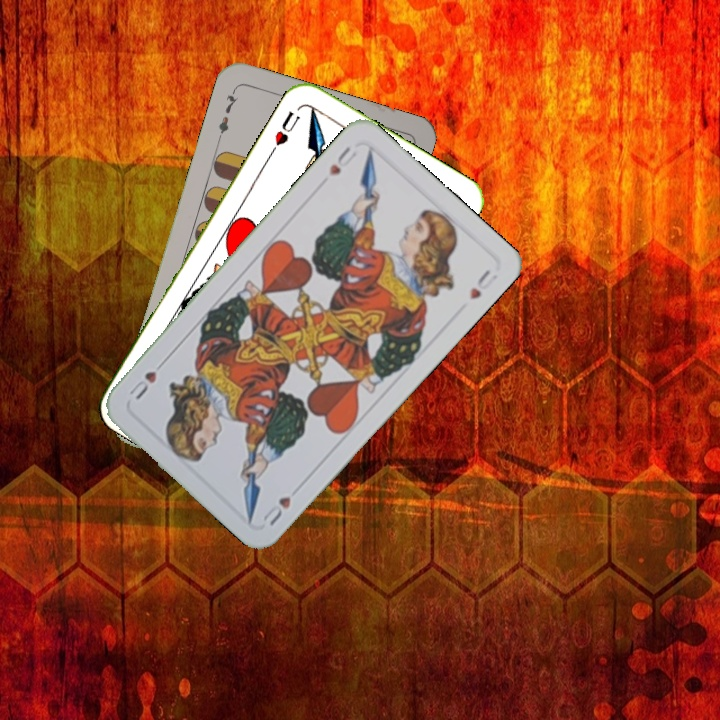E7: (213, 85, 240, 143)
HU: (256, 492, 294, 529), (270, 107, 303, 148), (324, 142, 360, 179)
